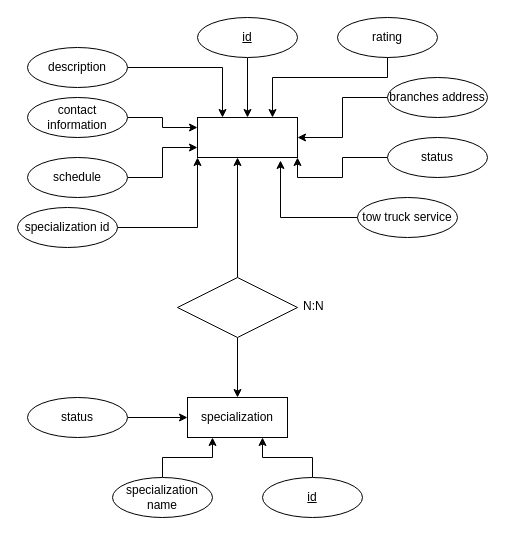
Some shapes in this 505 by 535 pixel diagram are drawn without their labels. The box of each missing label's shape, as (x1, y1, x2, y2) in pixels:
auto workshop: (196, 116, 298, 158)
have: (176, 276, 298, 338)
